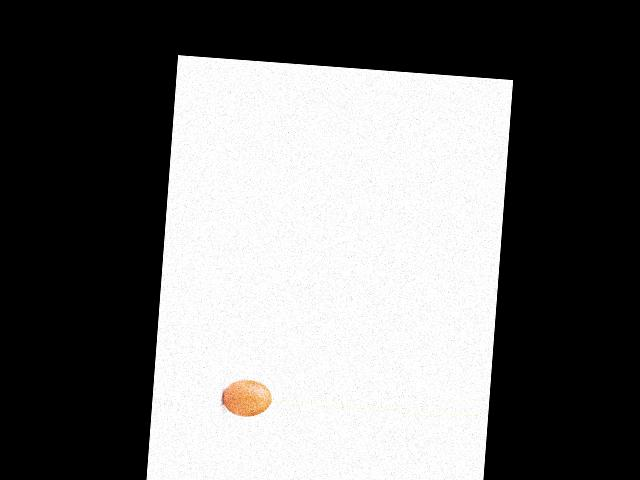egg: (221, 378, 272, 418)
